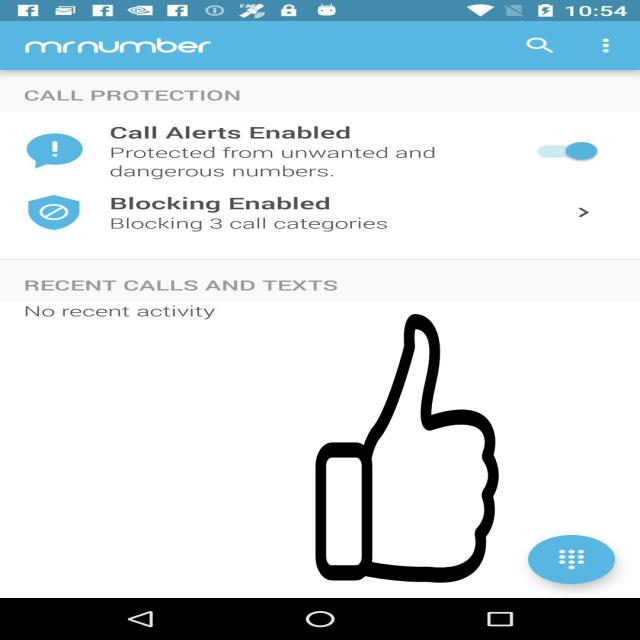privacy zuckering: (313, 314, 501, 583)
